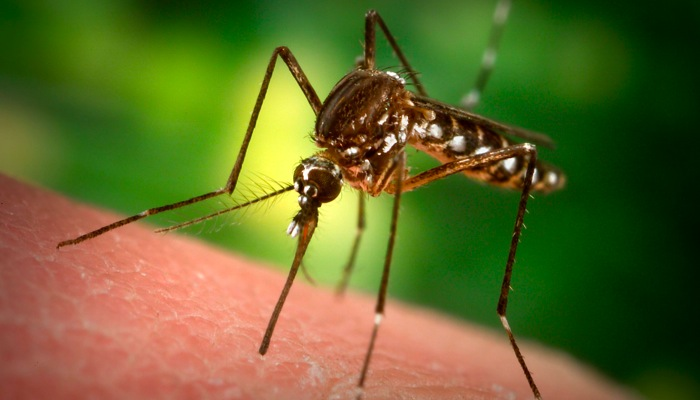mosquito: (40, 6, 600, 400)
